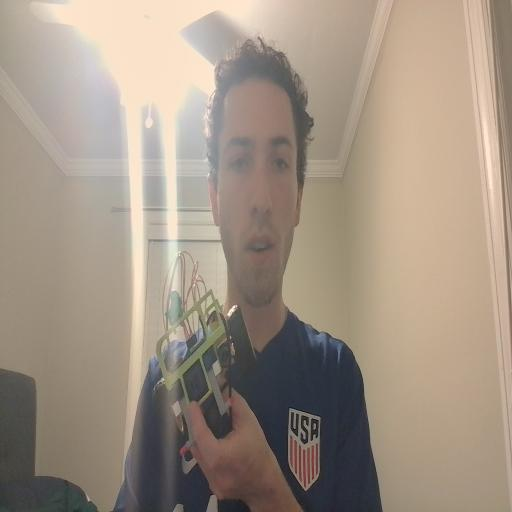green LEGO minifig: (164, 289, 184, 326)
